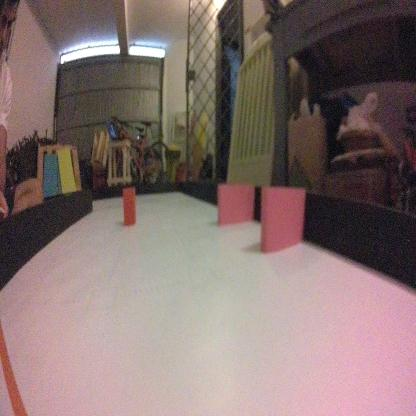magenta: (260, 183, 304, 252), (215, 181, 257, 229)
red: (120, 186, 136, 230)
